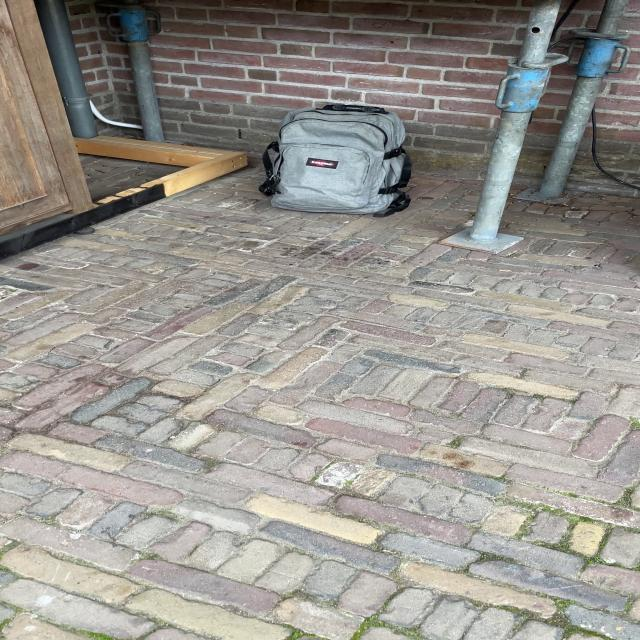backpack: (252, 99, 420, 220)
